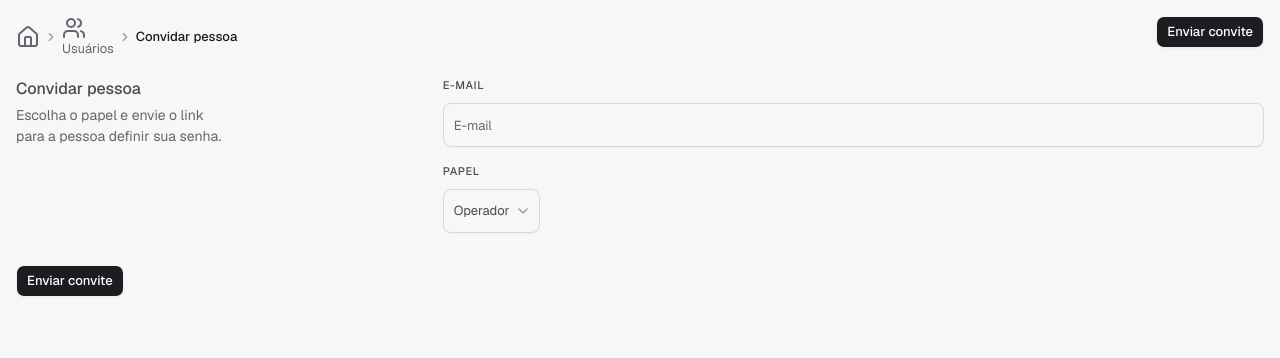
Scenario: UserInvitePage › preserves fields on response Convite criado, mas o envio do e-mail falhou.
The width and height of the screenshot is (1280, 358).
In the field labelled "E-mail": (853,125) [443,103,1264,147], type "retry@example.com"
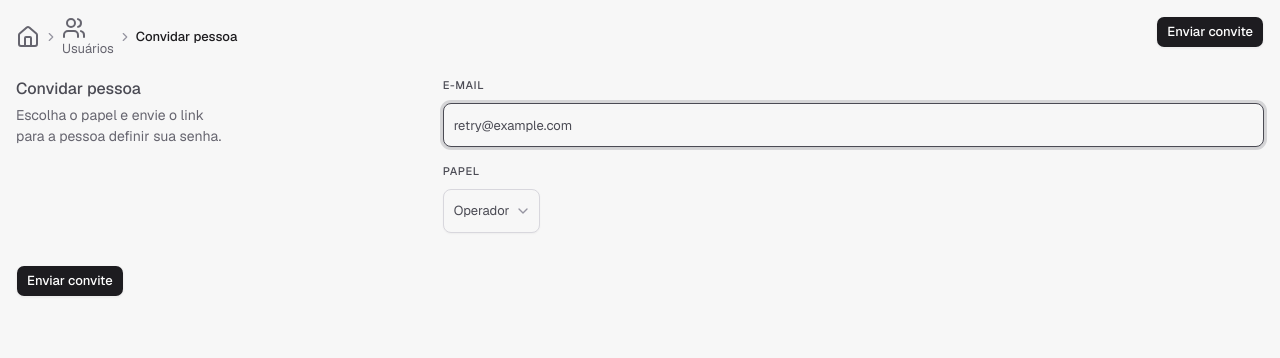
Click the button "Enviar convite" in the row of "Usuários": (1210,32) [1156,16,1264,48]
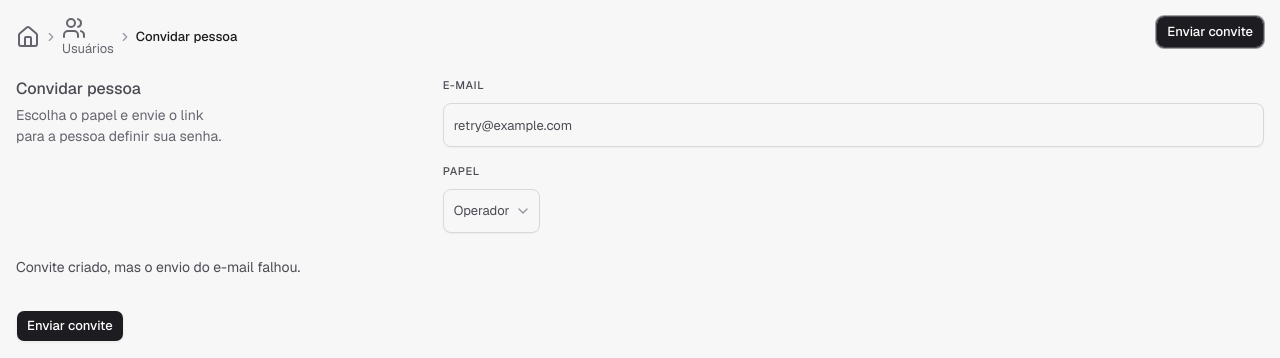
Expected: the dropdown shows "Operador", [443,189,540,233]
Result: the message reads "Convite criado, mas o envio do e-mail falhou." at [16,258,300,276]
